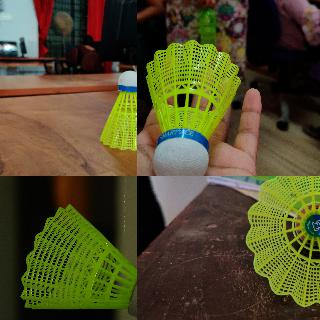shuttlecock: (21, 204, 136, 319), (145, 42, 242, 175), (246, 176, 319, 309), (99, 70, 136, 150)
